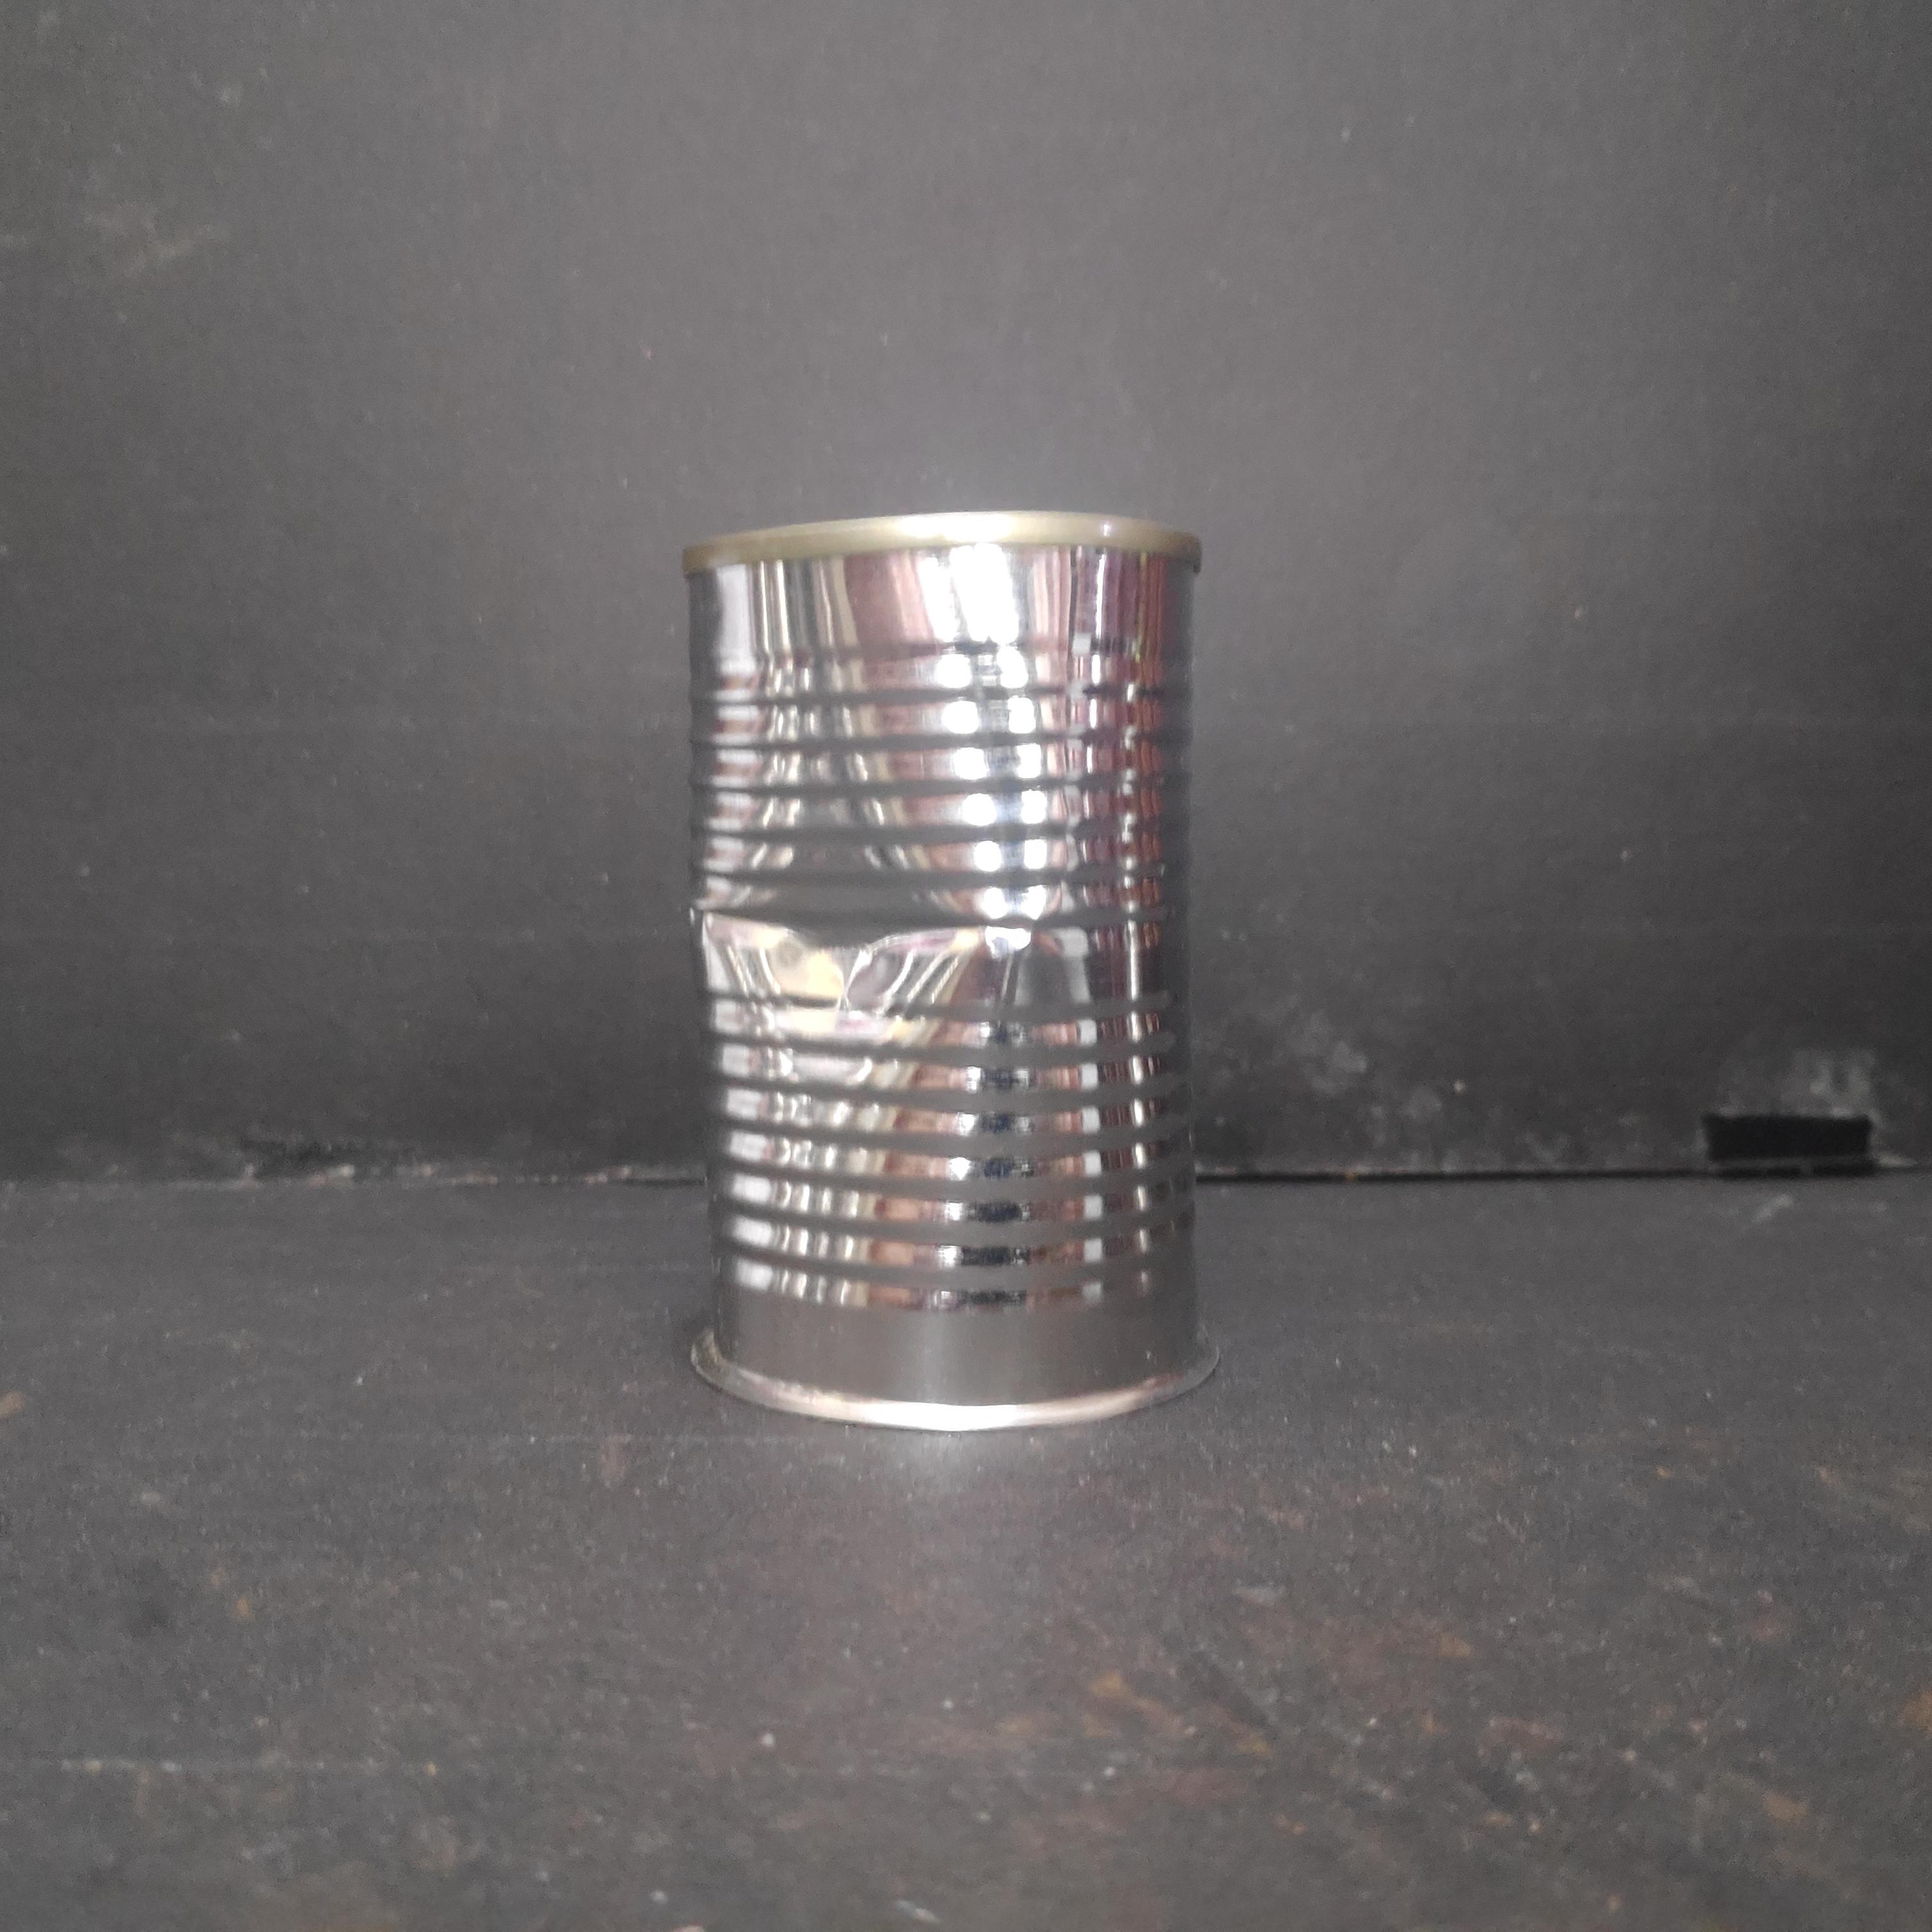Minor Defect: (665, 499, 1212, 1437)
